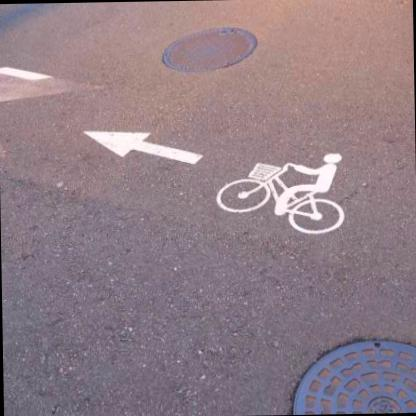manholes: (262, 267, 416, 415), (148, 3, 270, 94)
